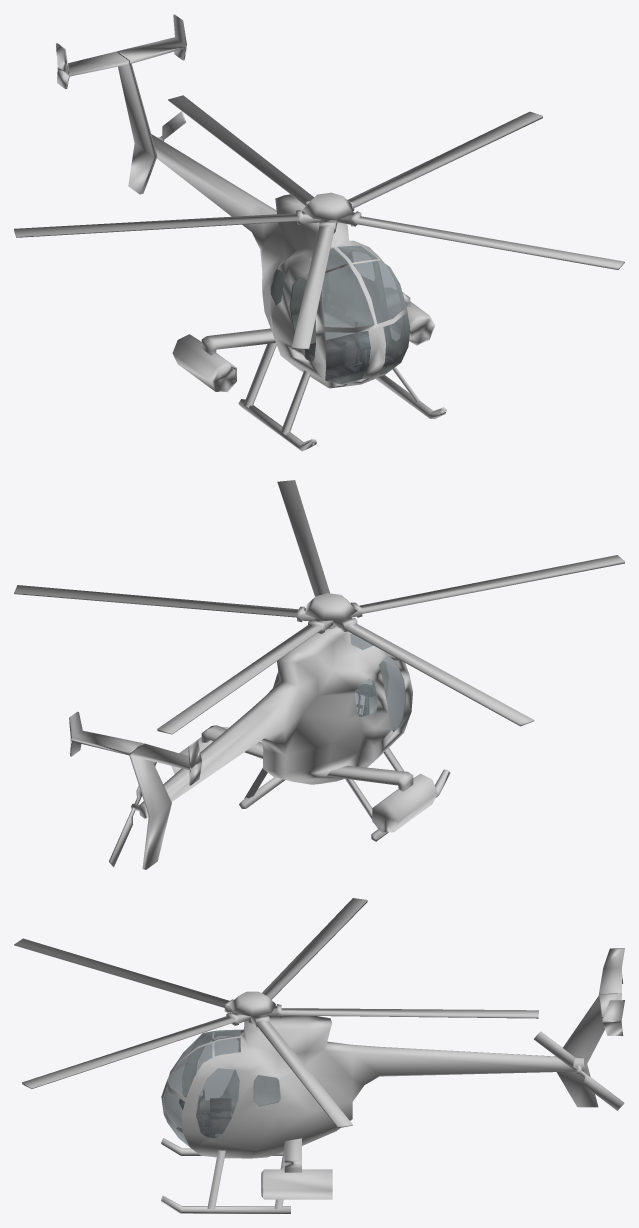
File: HELICOPTER_HEL_MODELF.fbx
3 views of the same model, one above another, from view 1: azimuth 30°, elevation 25°; view 2: azimuth 150°, elevation 25°; view 3: azimuth 270°, elevation 25° (orthographic). The views are drawn at different scales.
Visible parts, largest first — view 1: HEL_BASE, HEL_TOPROTOR, HEL_GLASS, HEL_COCKPIT, HEL_FRAME; view 2: HEL_BASE, HEL_TOPROTOR, HEL_GLASS, HEL_TAILROTOR; view 3: HEL_BASE, HEL_TOPROTOR, HEL_GLASS, HEL_COCKPIT, HEL_TAILROTOR, HEL_FRAME.
Part boxes in pixels (box(x1,y1,x2,y2)): HEL_BASE: box(56, 14, 446, 451); HEL_TOPROTOR: box(14, 95, 624, 349); HEL_GLASS: box(270, 245, 409, 384); HEL_COCKPIT: box(271, 246, 409, 383); HEL_FRAME: box(324, 264, 407, 379); HEL_BASE: box(69, 626, 450, 869); HEL_TOPROTOR: box(14, 480, 624, 734); HEL_GLASS: box(276, 634, 406, 731); HEL_TAILROTOR: box(109, 761, 156, 867); HEL_BASE: box(161, 948, 624, 1213); HEL_TOPROTOR: box(14, 898, 538, 1128); HEL_GLASS: box(163, 1029, 280, 1146); HEL_COCKPIT: box(179, 1030, 280, 1137); HEL_TAILROTOR: box(534, 1031, 624, 1110); HEL_FRAME: box(161, 1041, 212, 1131).
Size of the model in its own units: 11.65 by 4.91 by 13.15.
